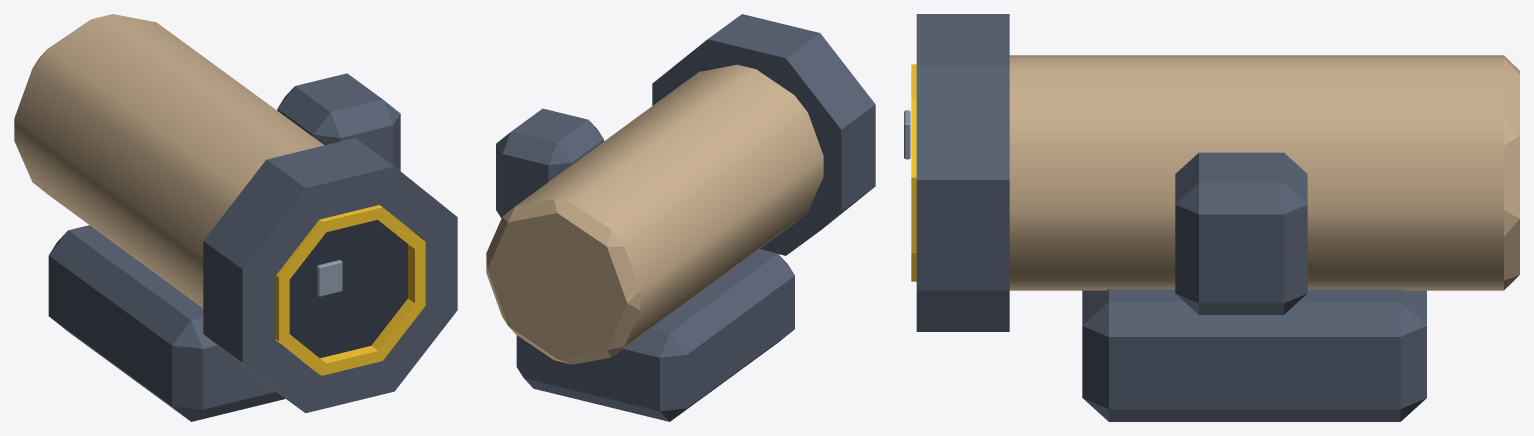
File: Module_Scope_v002.fbx
3 views of the same model, side by side, from view 1: azimuth 30°, elevation 25°; view 2: azimuth 150°, elevation 25°; view 3: azimuth 270°, elevation 25° (orthographic). The views are drawn at different scales.
Parts seen in each view (by area): view 1: Module_Scope__RECEIVER_MESH; view 2: Module_Scope__RECEIVER_MESH; view 3: Module_Scope__RECEIVER_MESH.
Part boxes in pixels (bbox=[...]): Module_Scope__RECEIVER_MESH: bbox=[14, 14, 457, 421]; Module_Scope__RECEIVER_MESH: bbox=[486, 14, 875, 421]; Module_Scope__RECEIVER_MESH: bbox=[904, 14, 1519, 421].
Size of the model in its own units: 0.2859 by 0.2809 by 0.4645.
